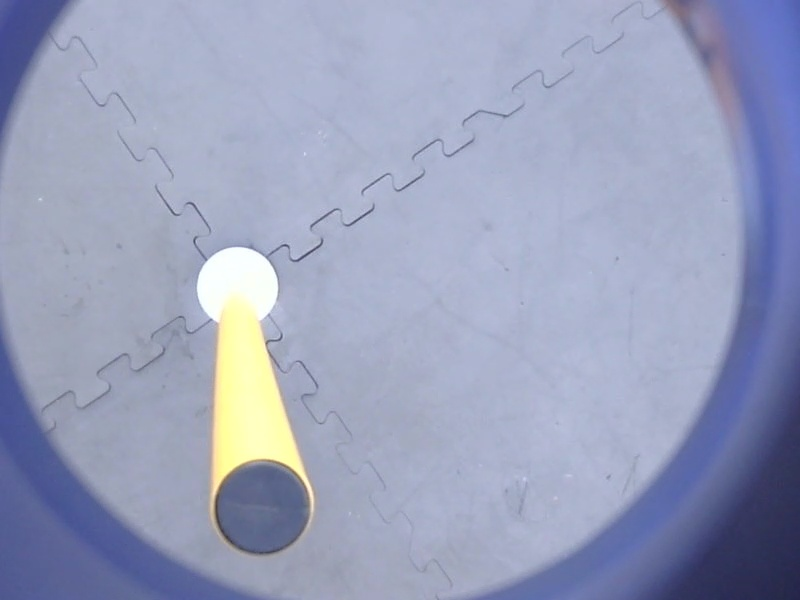tip: (198, 451, 325, 568)
